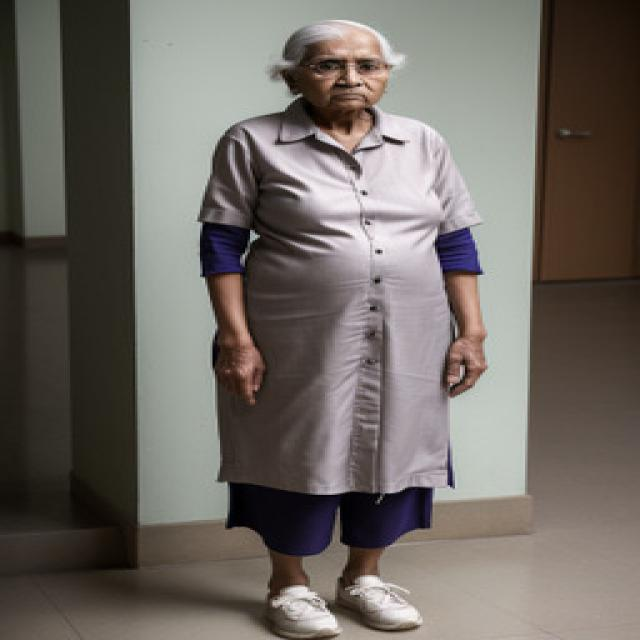Ai human 2: (187, 9, 529, 640)
